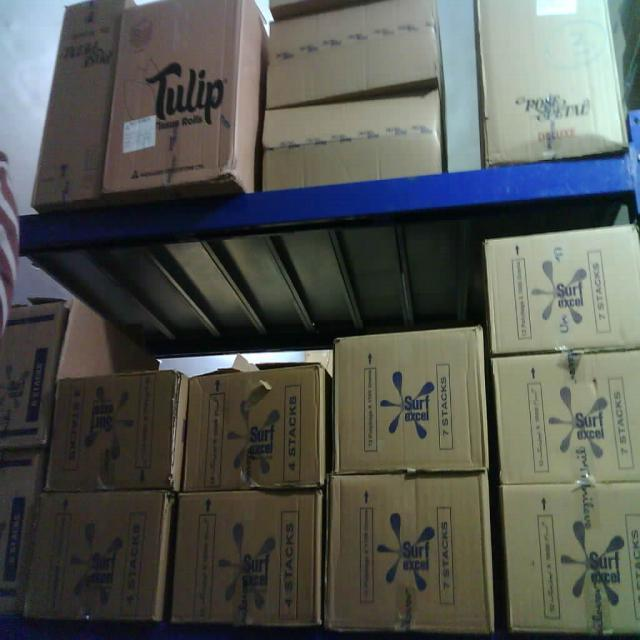cardboxes: (326, 473, 494, 634), (332, 322, 487, 479), (115, 0, 241, 186), (500, 478, 640, 639), (487, 346, 640, 487), (171, 490, 326, 628), (486, 224, 640, 358), (22, 489, 173, 623), (176, 358, 324, 494), (44, 370, 184, 498), (266, 8, 442, 98), (262, 103, 444, 182)
